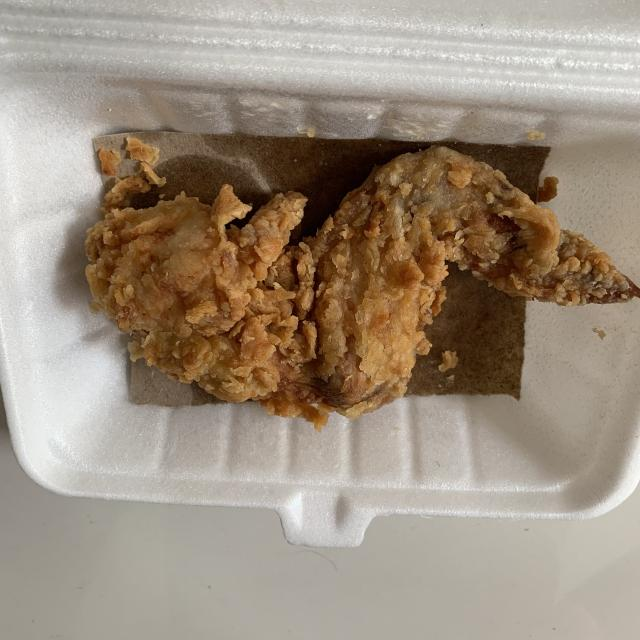Frango: (87, 149, 640, 418)
